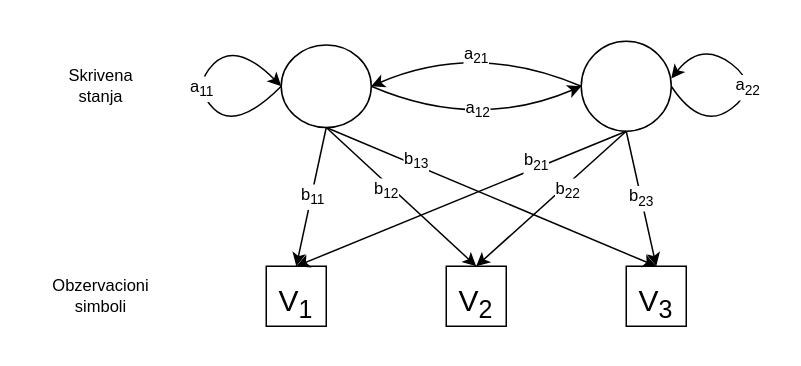
Some shapes in this 801 by 366 pixel diagram are drawn without their labels. Here are the shapes that lost their labels. From the top down, the centre of each, then its label:
At (325,86): "S 1".
At (625,85): "S 2".
